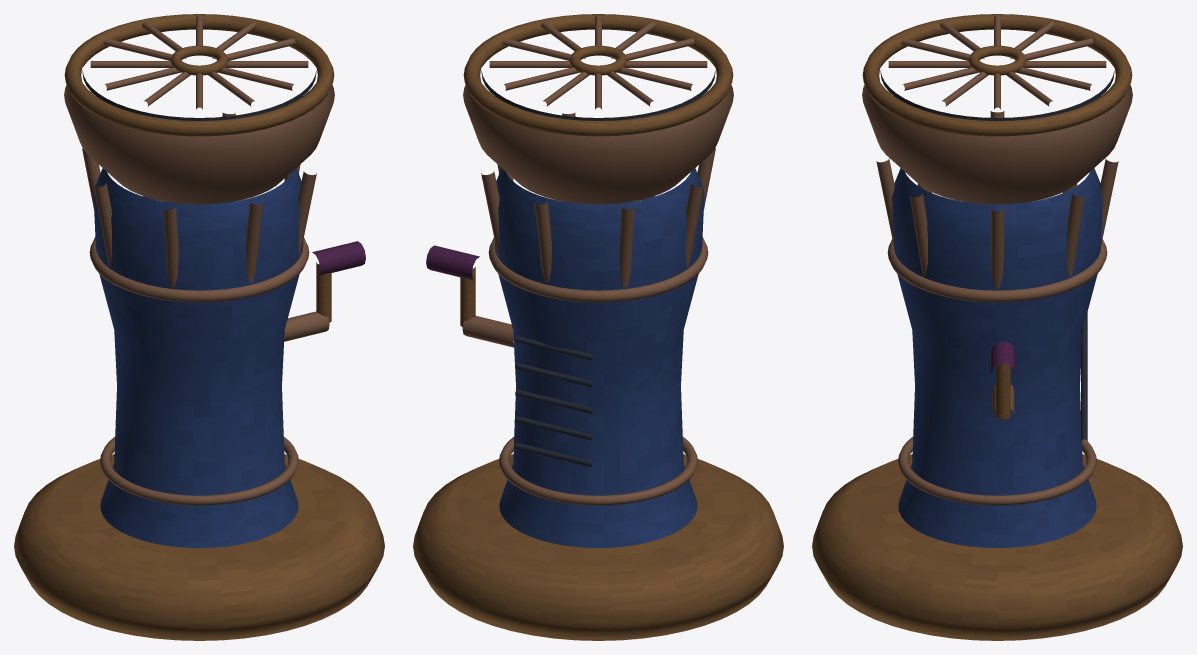
File: PRP-001-civic-receiver-v04.glb
3 views of the same model, side by side, from view 1: azimuth 30°, elevation 25°; view 2: azimuth 150°, elevation 25°; view 3: azimuth 270°, elevation 25° (orthographic).
Visible parts, largest first — view 1: fired indigo ceramic shaft, foundation mineral foot, acoustic bell chamber, ochre head retaining ring, upper bronze cuff, lower bronze cuff, fabric-wrapped manual handle, speaker hub, dark acoustic diaphragm, head support rib 3, head support rib 2, crank axle (+9 smaller); view 2: fired indigo ceramic shaft, foundation mineral foot, acoustic bell chamber, ochre head retaining ring, upper bronze cuff, lower bronze cuff, fabric-wrapped manual handle, speaker hub, crank axle, dark acoustic diaphragm, head support rib 5, head support rib 6 (+13 smaller); view 3: fired indigo ceramic shaft, foundation mineral foot, acoustic bell chamber, ochre head retaining ring, upper bronze cuff, lower bronze cuff, speaker hub, head support rib 0, dark acoustic diaphragm, head support rib 1, head support rib 7, crank rise (+9 smaller).
Part boxes in pixels (bbox=[...]): fired indigo ceramic shaft: bbox=[93, 168, 303, 547]; foundation mineral foot: bbox=[14, 454, 384, 640]; acoustic bell chamber: bbox=[64, 85, 334, 204]; ochre head retaining ring: bbox=[64, 14, 334, 136]; upper bronze cuff: bbox=[89, 237, 309, 302]; lower bronze cuff: bbox=[100, 436, 298, 505]; fabric-wrapped manual handle: bbox=[312, 241, 365, 276]; speaker hub: bbox=[170, 45, 228, 75]; dark acoustic diaphragm: bbox=[82, 70, 316, 120]; head support rib 3: bbox=[163, 207, 178, 287]; head support rib 2: bbox=[246, 201, 263, 283]; crank axle: bbox=[284, 311, 329, 341]; fired indigo ceramic shaft: bbox=[494, 168, 704, 547]; foundation mineral foot: bbox=[413, 454, 783, 640]; acoustic bell chamber: bbox=[463, 85, 733, 204]; ochre head retaining ring: bbox=[463, 14, 733, 136]; upper bronze cuff: bbox=[488, 237, 708, 302]; lower bronze cuff: bbox=[499, 436, 697, 505]; fabric-wrapped manual handle: bbox=[426, 245, 479, 280]; speaker hub: bbox=[569, 45, 627, 75]; crank axle: bbox=[462, 315, 513, 347]; dark acoustic diaphragm: bbox=[481, 70, 715, 120]; head support rib 5: bbox=[619, 207, 634, 287]; head support rib 6: bbox=[534, 201, 551, 283]; fired indigo ceramic shaft: bbox=[892, 168, 1102, 547]; foundation mineral foot: bbox=[812, 454, 1182, 640]; acoustic bell chamber: bbox=[862, 85, 1132, 204]; ochre head retaining ring: bbox=[862, 14, 1132, 136]; upper bronze cuff: bbox=[887, 239, 1107, 302]; lower bronze cuff: bbox=[898, 436, 1096, 505]; speaker hub: bbox=[968, 45, 1026, 75]; head support rib 0: bbox=[990, 208, 1004, 288]; dark acoustic diaphragm: bbox=[880, 70, 1114, 120]; head support rib 1: bbox=[909, 194, 927, 276]; head support rib 7: bbox=[1067, 194, 1085, 276]; crank rise: bbox=[996, 364, 1010, 419].
Bounding box in the file's own units: 1.27 × 1.92 × 1.26.
5 materials, 3 textured.
